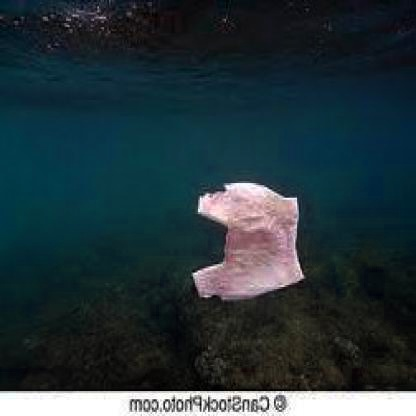pbag: (188, 179, 306, 301)
